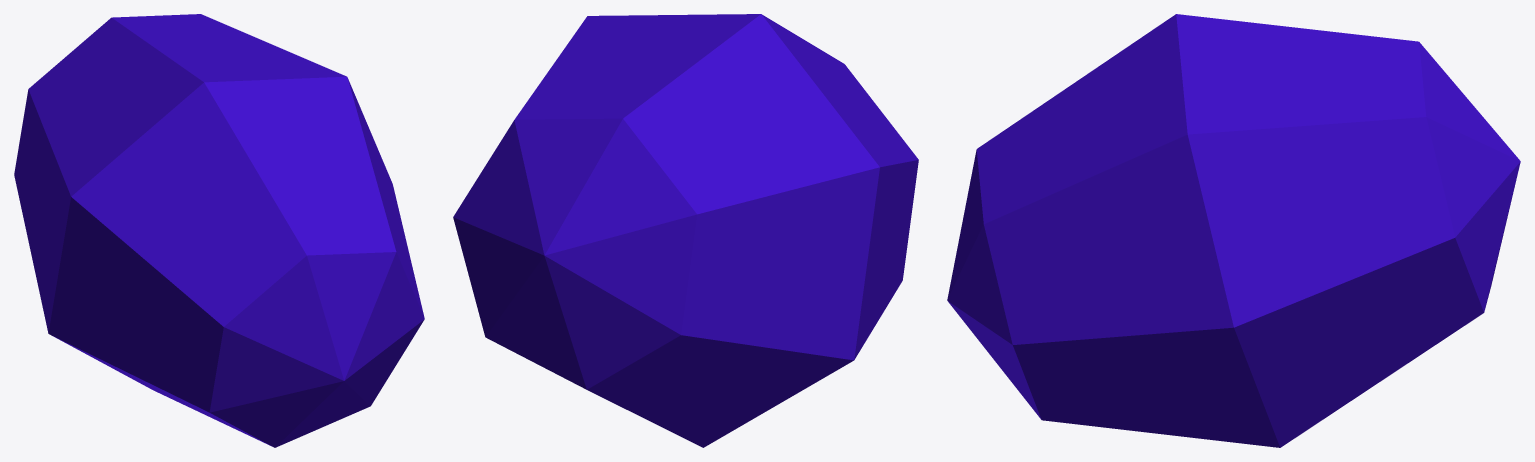
Rendered from THEO_gem.fbx.
3 renders of one model, left to right at view 1: azimuth 30°, elevation 25°; view 2: azimuth 150°, elevation 25°; view 3: azimuth 270°, elevation 25°, orthographic. The views are drawn at different scales.
Visible parts, largest first — view 1: stone; view 2: stone; view 3: stone.
Boxes of the visible parts, x1,y1,x2,y2 form: stone: [14, 14, 424, 447]; stone: [453, 14, 918, 447]; stone: [947, 14, 1520, 447].
Size of the model in its own units: 57.01 by 56.49 by 75.13.
